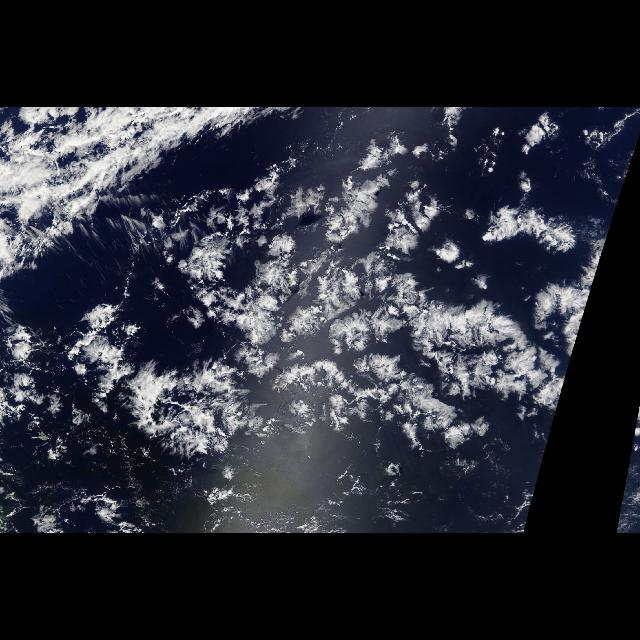Flower: (133, 168, 591, 474)
